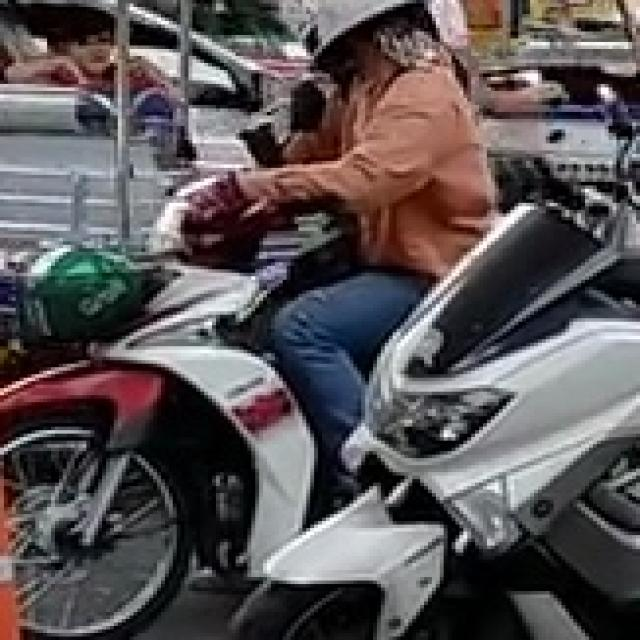helmet: (16, 241, 145, 343), (302, 0, 432, 70)
tyre: (0, 419, 192, 636)
